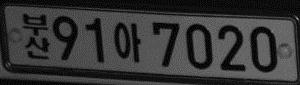0: (248, 25, 278, 73), (185, 23, 213, 70)
1: (81, 17, 109, 63)
2: (217, 23, 246, 71)
7: (151, 21, 180, 67)
9: (51, 15, 79, 61)
부산_V: (22, 11, 50, 60)
아: (113, 21, 142, 63)
